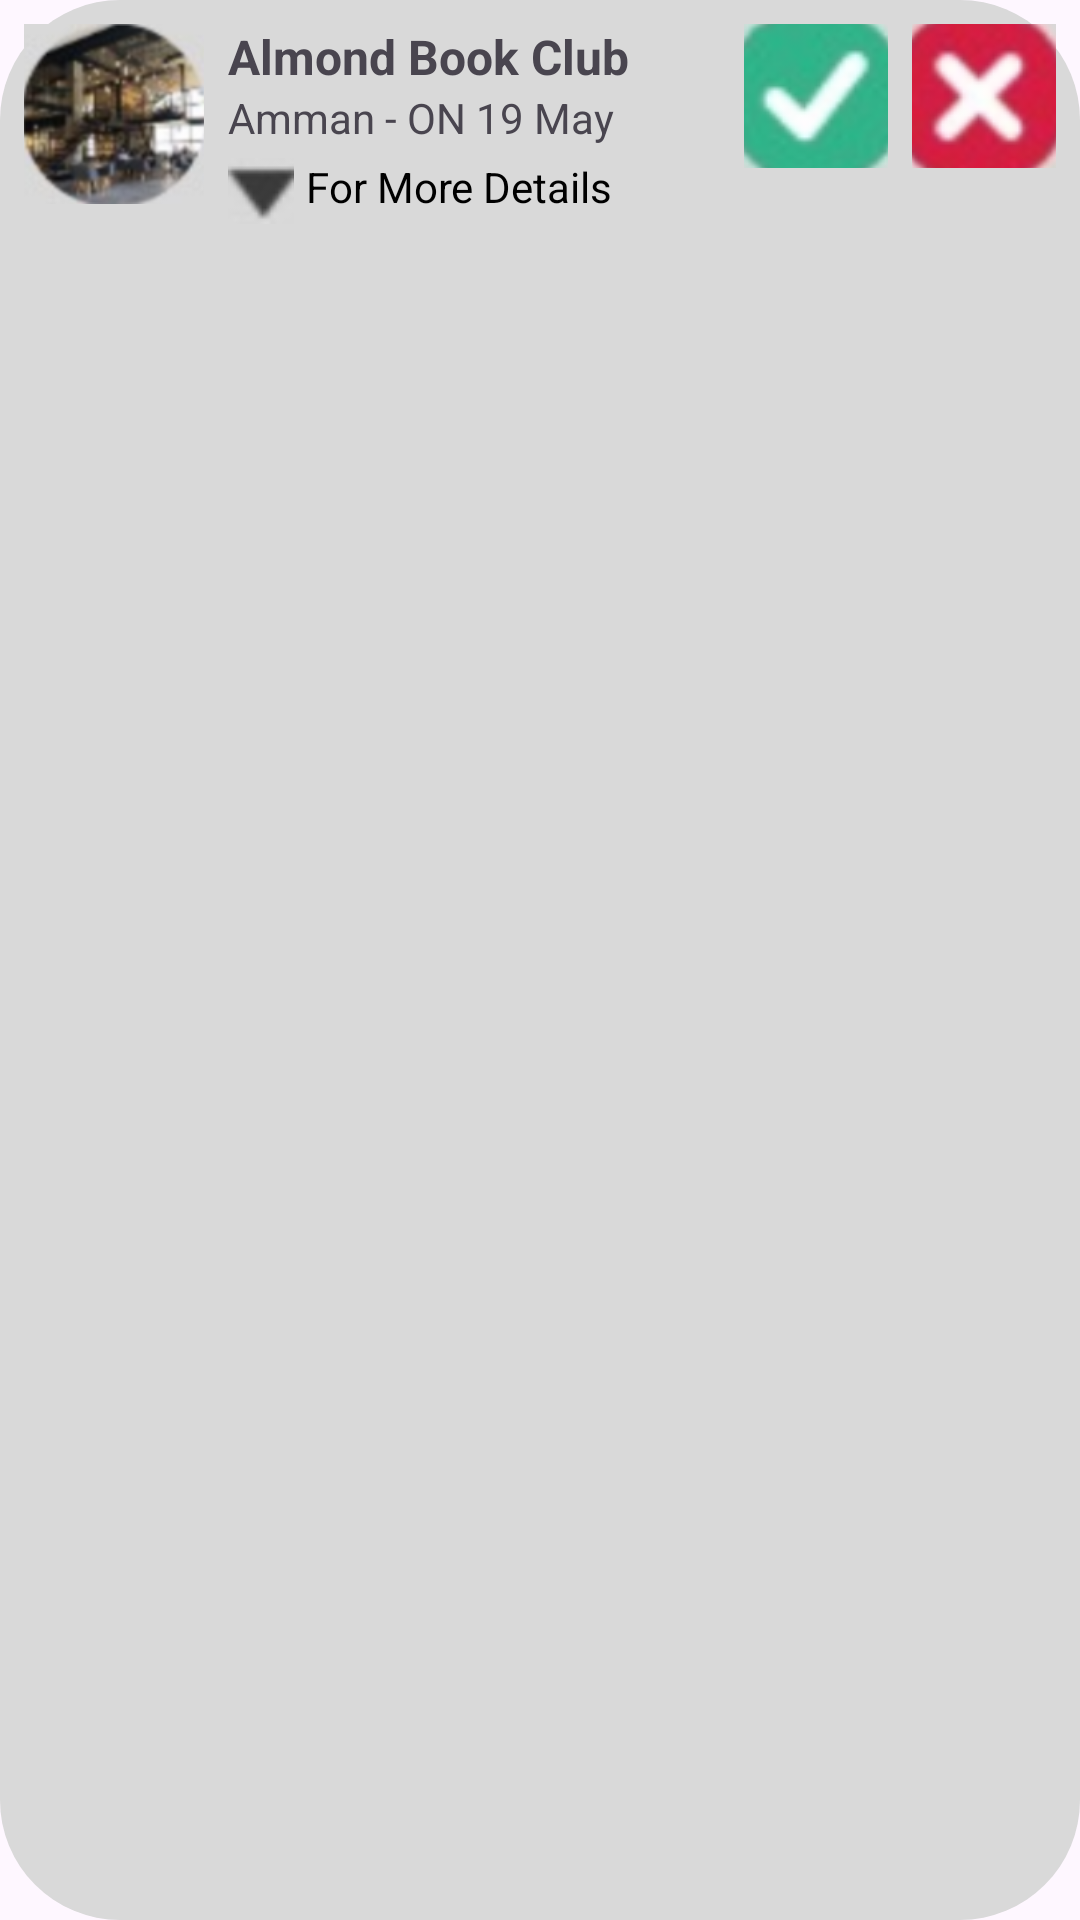

Locate icon controls on the screen. Image size 1080px x 1920px, boxes as detection(x1, y1, x2, y2).
checkkk: detection(744, 24, 888, 168)
declinee: detection(912, 24, 1056, 168)
